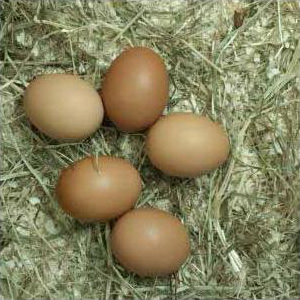egg: (56, 156, 144, 223), (102, 47, 170, 133), (110, 208, 190, 279), (24, 74, 105, 142), (144, 114, 229, 178)
